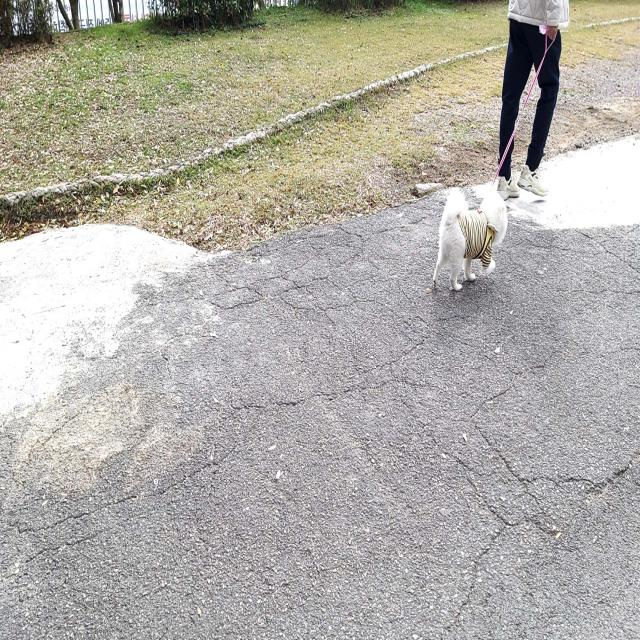Leashed_Dog: (432, 25, 560, 293)
